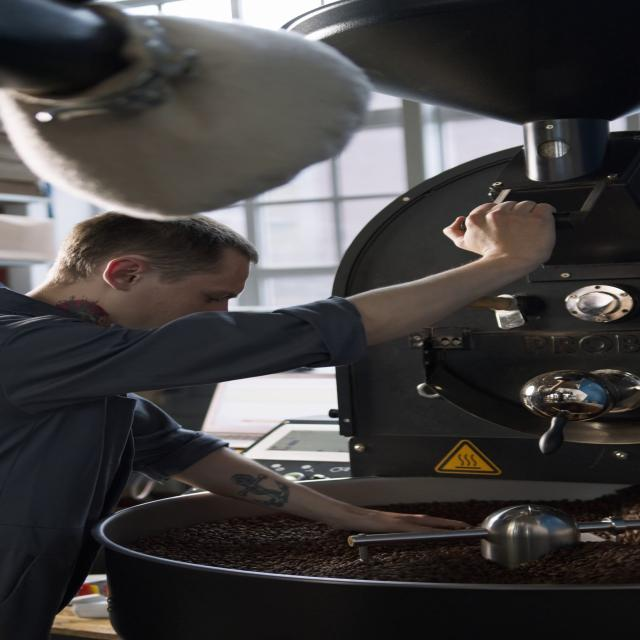not-gloved: (441, 198, 558, 265), (329, 504, 475, 534)
